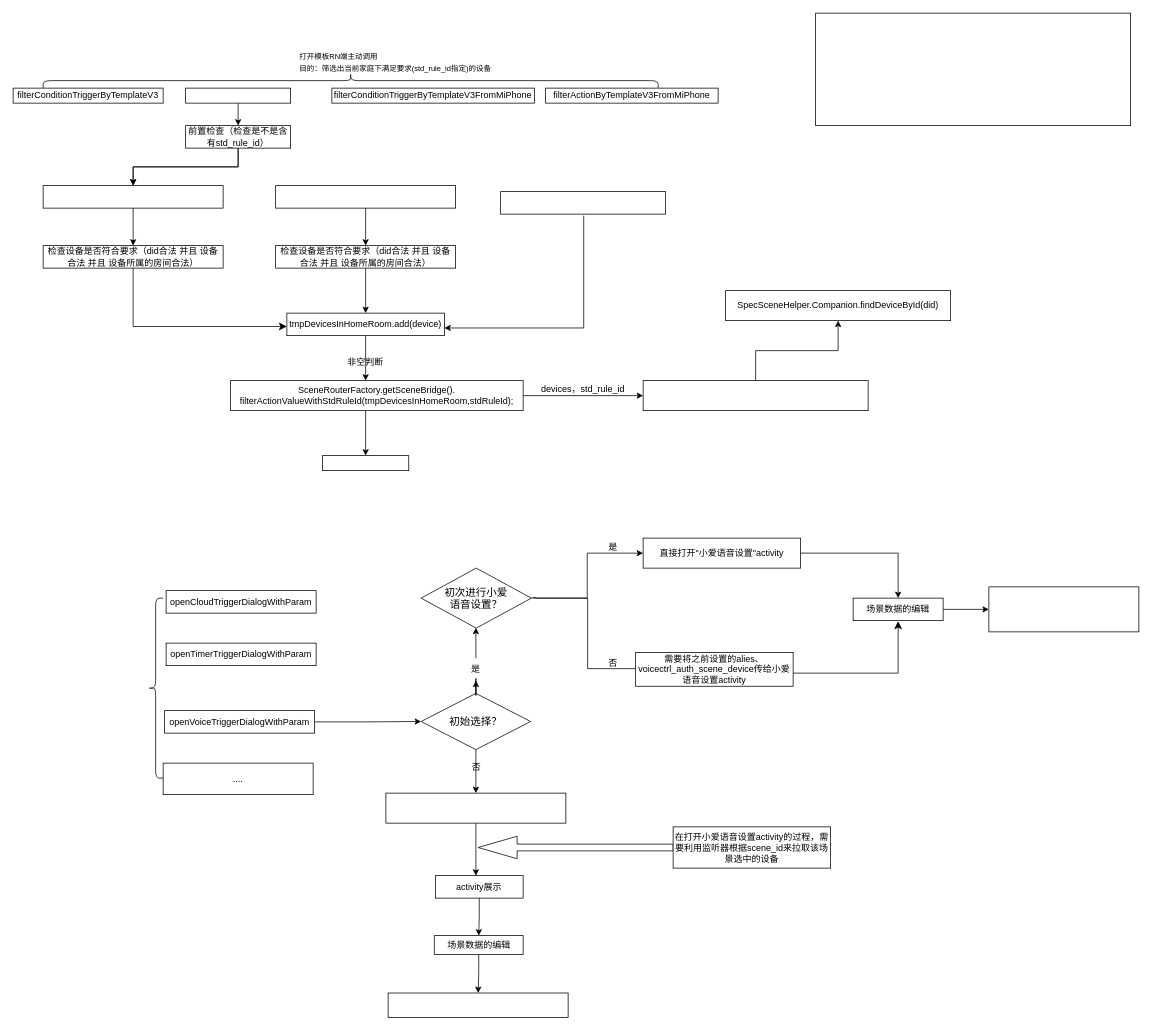
Image size: 1152x1031. Some labels were removed from this diagram. Each missing label, with the centre of its shape:
CarManager.INSTANCE.getCarRooms(): (365,196)
ConcurrentHashMap<String, CopyOnWriteArrayList<String>> stdActionsDid: (973,69)
filterActionByTemplateV3: (238,95)
HomeManager.getInstance() .getHomeDids(curHome.getId(),true): (132,196)
SmartHomeDeviceManager. getInstance().findSoloDevices();: (583,202)
SpecSceneConfigRepository.INSTANCE .getActionStdDid().get(d.did): (755,395)
从参数中读取scene_id，alies；activity跳转: (475,807)
回传数据给RN并结束当前activity（alies以及需要将之前设置的alies、voicectrl_auth_scene_device数组）: (1063,609)
回传数据给RN并结束活动（包括scene_id）: (477,1004)
数据转换、返回结果: (365,463)
